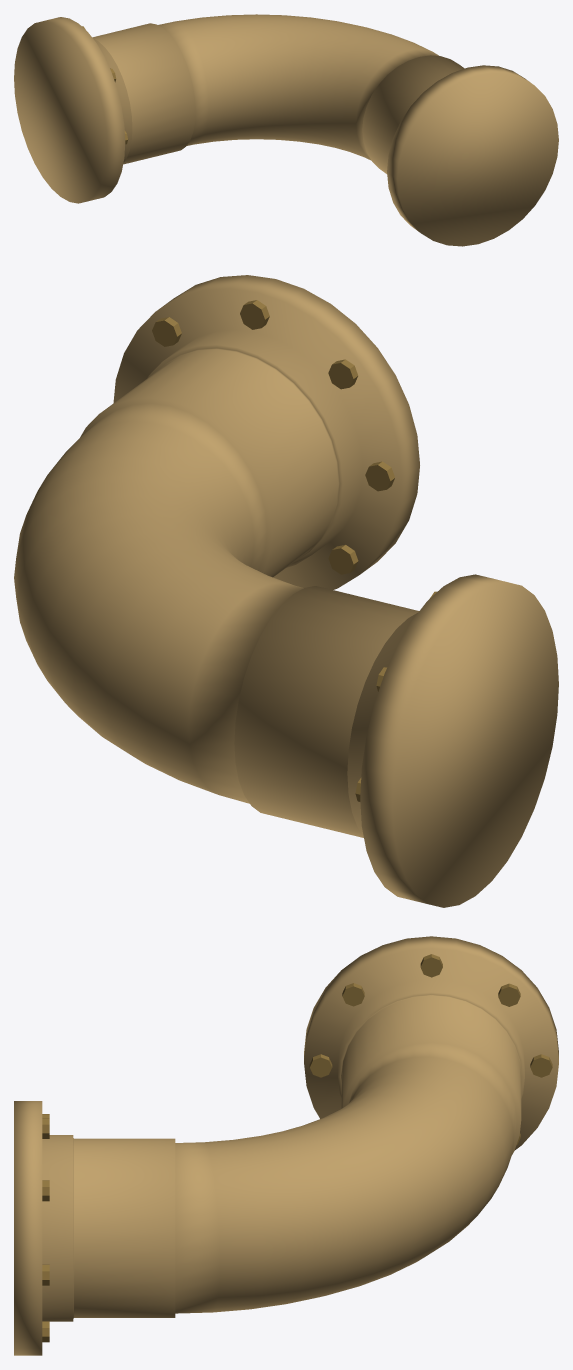
Rendered from Tuyau-Angle-B.fbx.
The picture shows the model from 3 angles, top to bottom: view 1: azimuth 30°, elevation 25°; view 2: azimuth 150°, elevation 25°; view 3: azimuth 270°, elevation 25°; orthographic projection. The views are drawn at different scales.
Parts seen in each view (by area): view 1: Tuyau-Angle-B; view 2: Tuyau-Angle-B; view 3: Tuyau-Angle-B.
Part boxes in pixels (x1,y1,x2,y2): Tuyau-Angle-B: (14,14,558,246); Tuyau-Angle-B: (14,275,558,907); Tuyau-Angle-B: (14,936,558,1355).
Size of the model in its own units: 1220 by 571 by 1220.
